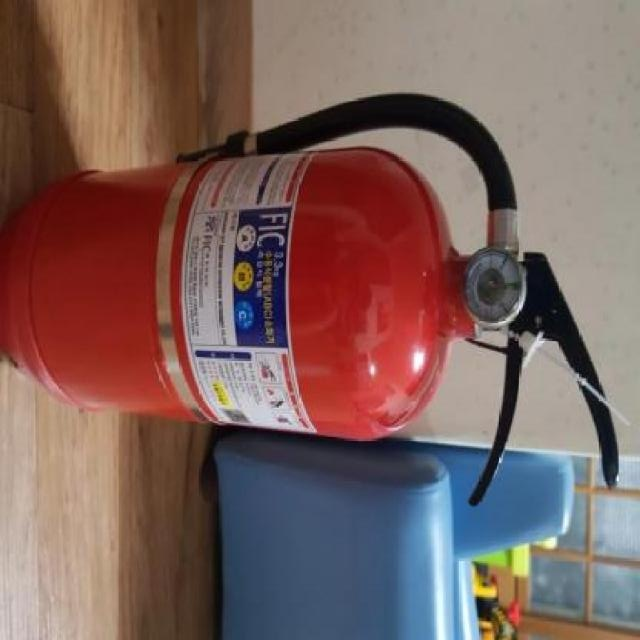fire extinguisher: (0, 94, 622, 508)
